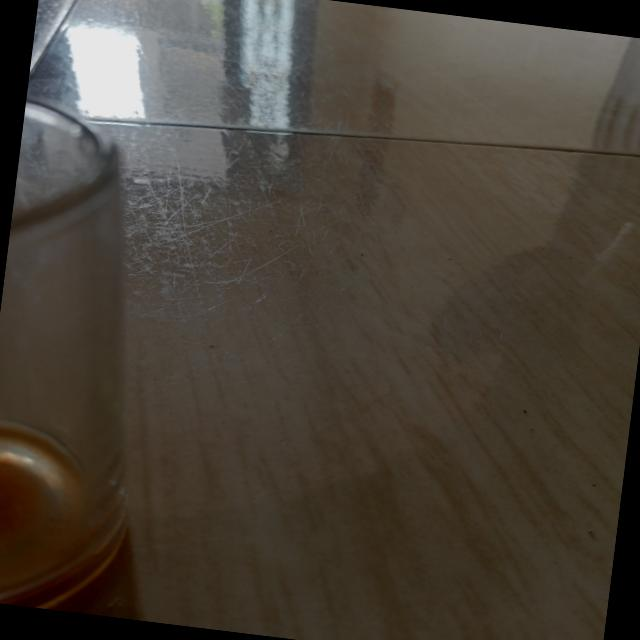glass-VX4N: (0, 101, 191, 619)
